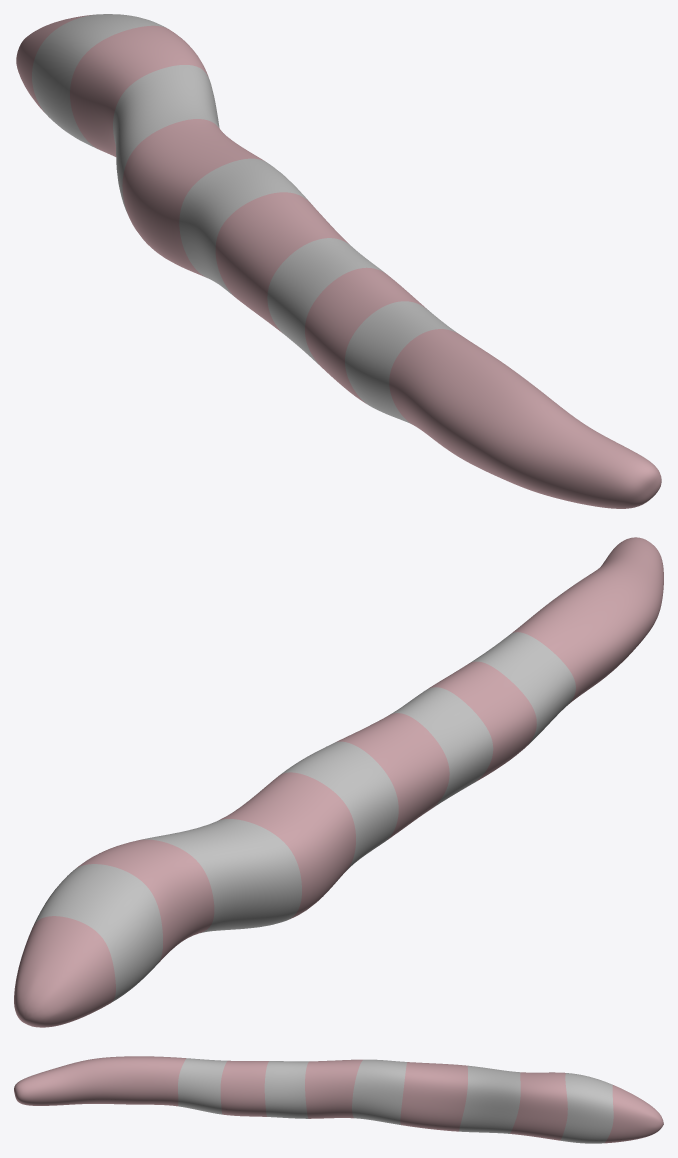
The model's file is worm1.fbx.
3 views of the same model, one above another, from view 1: azimuth 30°, elevation 25°; view 2: azimuth 150°, elevation 25°; view 3: azimuth 270°, elevation 25° (orthographic). The views are drawn at different scales.
Parts seen in each view (by area): view 1: worm; view 2: worm; view 3: worm.
Boxes of the visible parts, bbox=[...] form: worm: bbox=[16, 14, 661, 508]; worm: bbox=[14, 537, 663, 1027]; worm: bbox=[14, 1056, 663, 1143].
Bounding box in the file's own units: 0.7129 × 0.4774 × 4.41.
